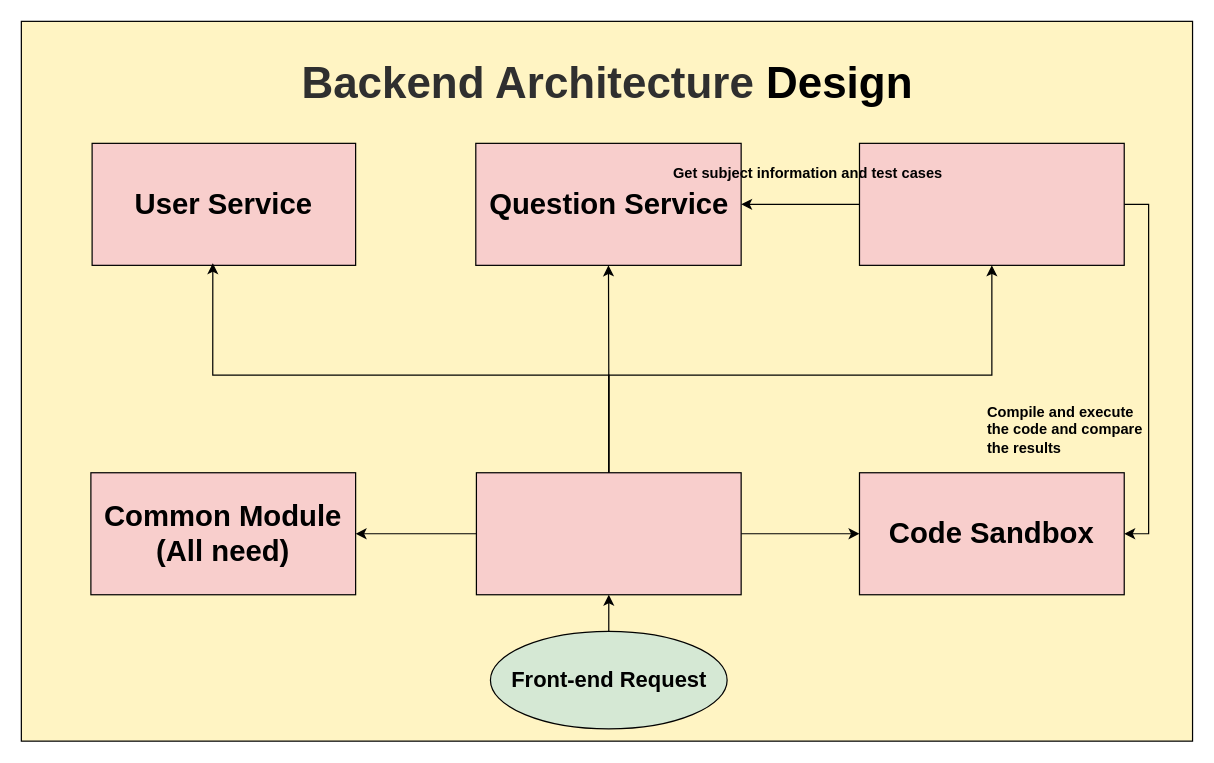
Some shapes in this 1214 by 763 pixel diagram are drawn without their labels. The centre of each missing label's shape, as x and y in pixels:
"Gateway Service" goes at [608,533].
"Judgment Service" goes at [991,203].
